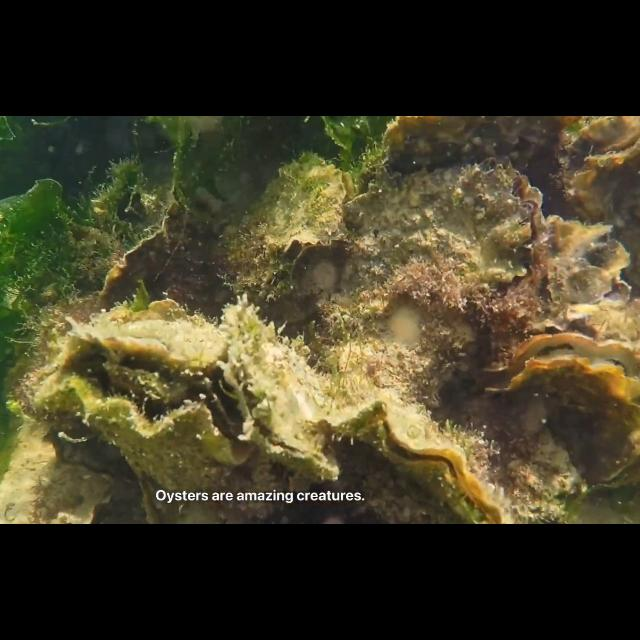Oyster-Closed: (379, 115, 566, 212), (96, 184, 220, 302)
Oyster-Open: (338, 150, 544, 406), (36, 310, 254, 482), (308, 386, 518, 524), (221, 294, 337, 476), (477, 326, 639, 416), (560, 116, 640, 294), (532, 215, 630, 328), (262, 156, 346, 258), (0, 453, 118, 524), (216, 211, 296, 305), (124, 442, 174, 524), (586, 426, 640, 490)
